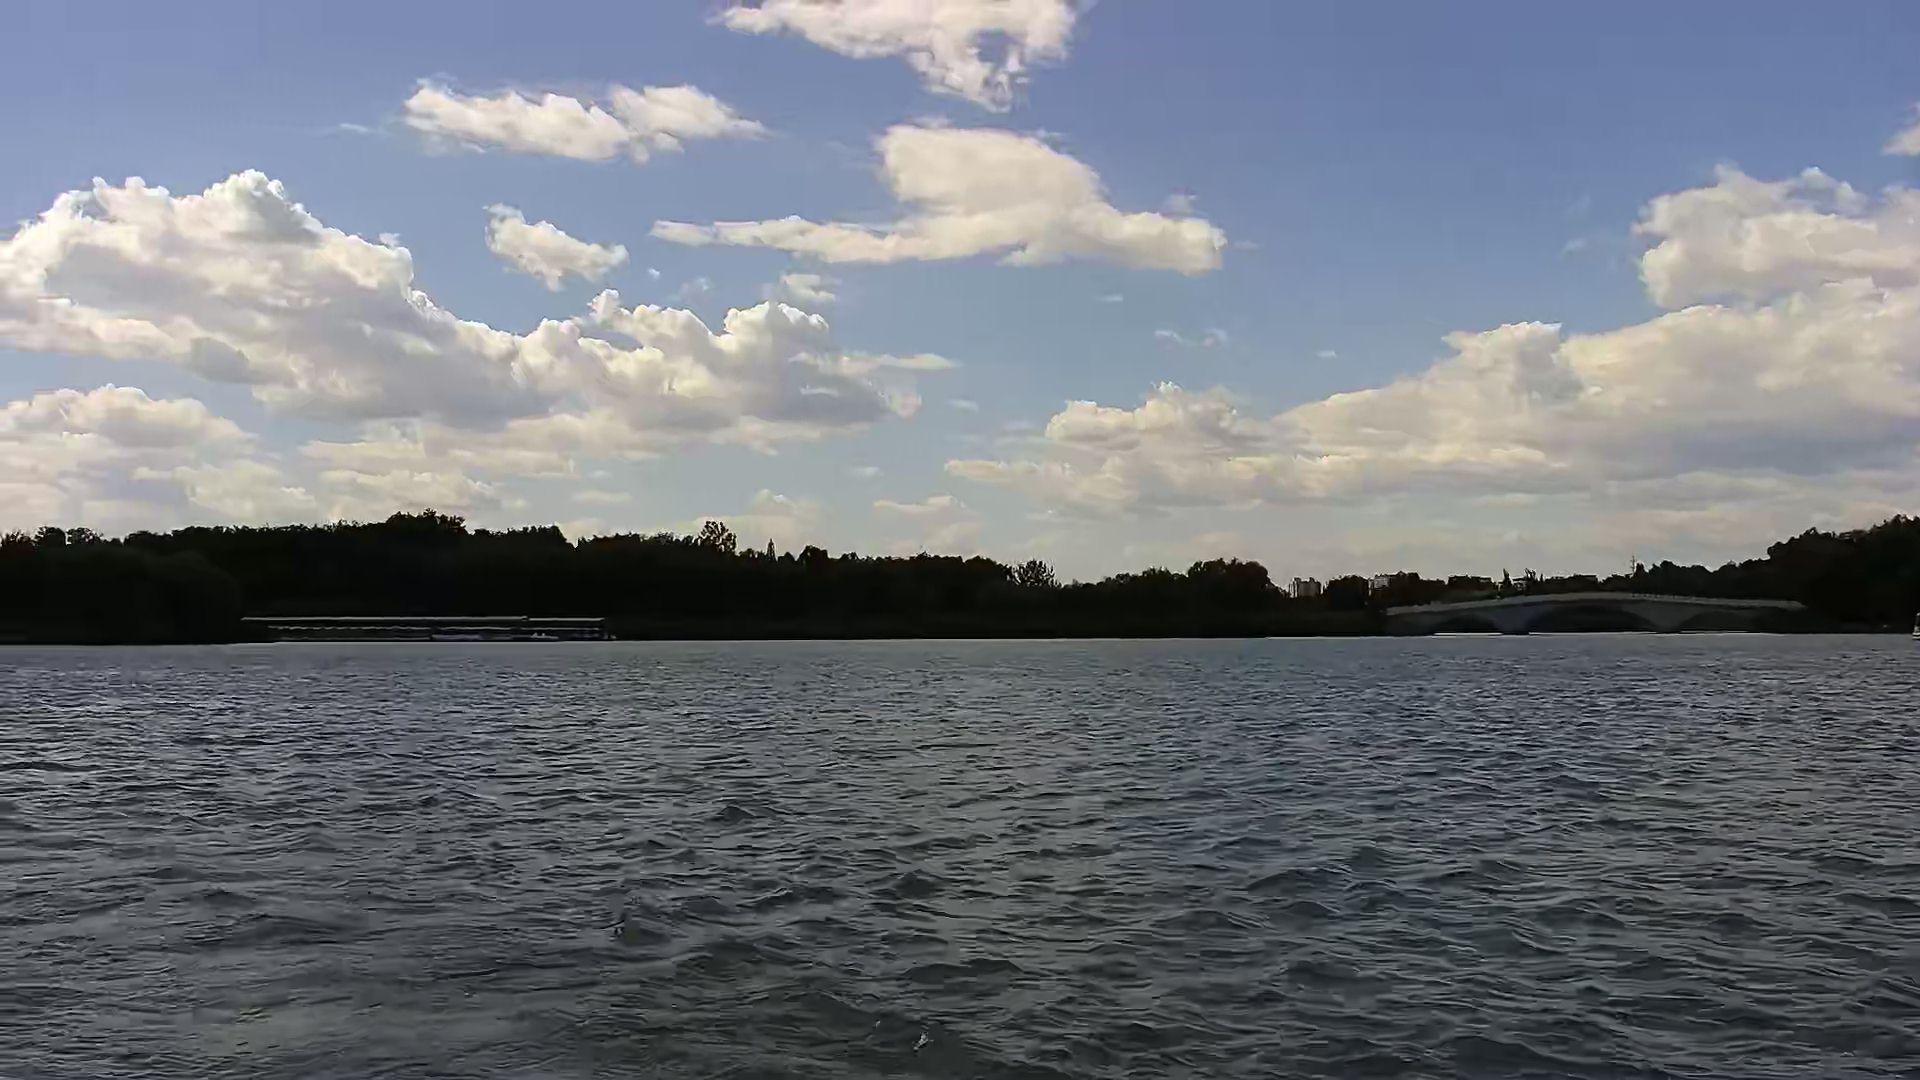bridge: (1381, 591, 1812, 644)
